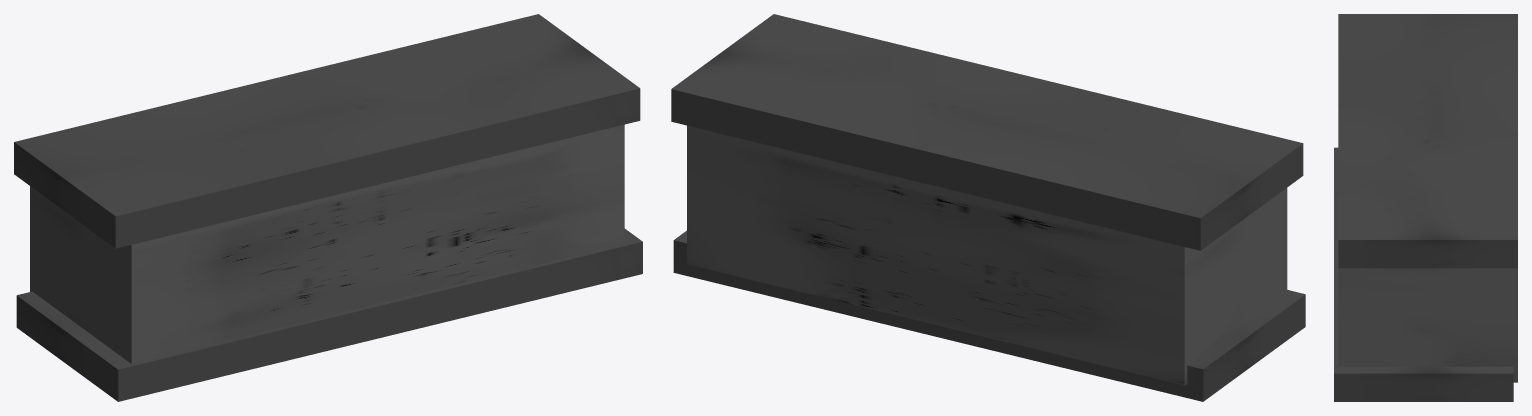
File: Platform_1x3_V1.fbx
3 views of the same model, side by side, from view 1: azimuth 30°, elevation 25°; view 2: azimuth 150°, elevation 25°; view 3: azimuth 270°, elevation 25° (orthographic). The views are drawn at different scales.
Parts seen in each view (by area): view 1: Platform 1x3 V1; view 2: Platform 1x3 V1; view 3: Platform 1x3 V1.
Boxes of the visible parts, x1,y1,x2,y2 form: Platform 1x3 V1: (14,14,642,401); Platform 1x3 V1: (671,14,1305,401); Platform 1x3 V1: (1334,14,1517,401).
Size of the model in its own units: 298 by 99.85 by 103.
